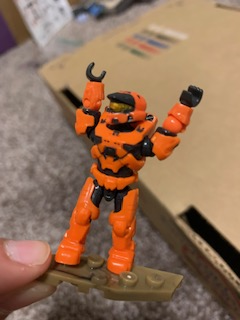spartan: (52, 62, 204, 279)
up: (70, 61, 205, 177)
